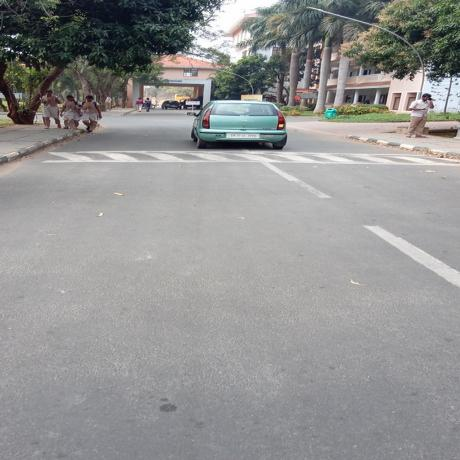Speed Bump: (22, 150, 459, 166)
